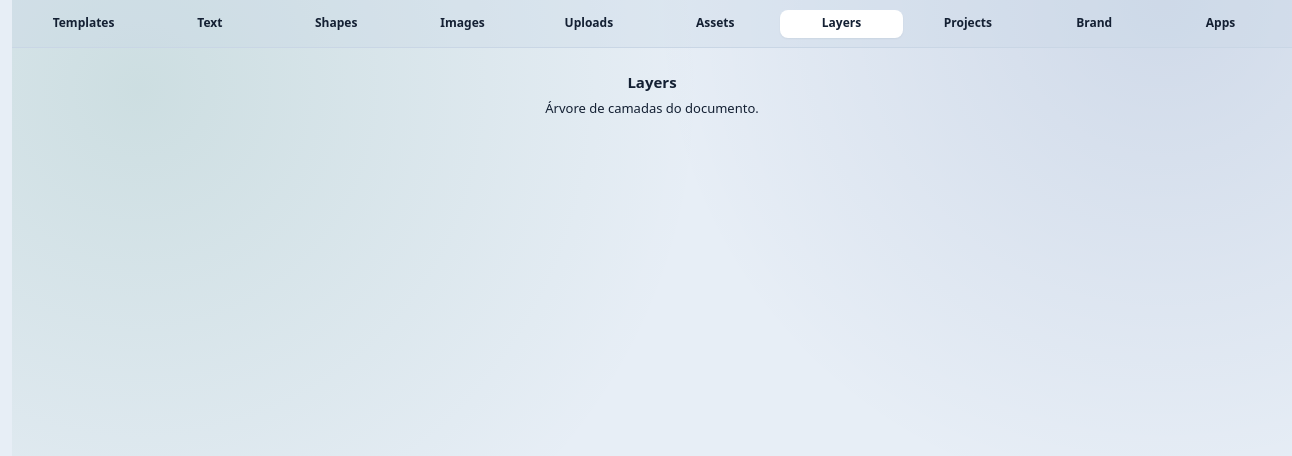
Test case: Editor UX layout foundation › renders AssetLibrary slot when assetsContent is provided
What coordinates should you click on to do the following:
click the tab with class "eko-tabs__tab" showing "Assets"
I would click on:
 (715, 24)
Its box is top-left (653, 10), bottom-right (777, 38).
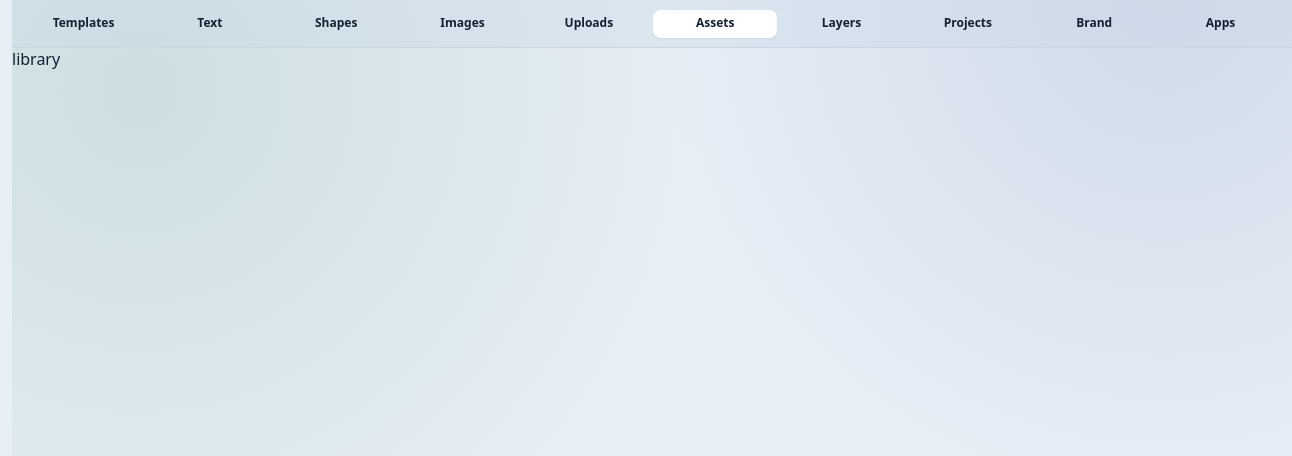
Expected: the text with test id "assets-slot" reads "library", top-left (12, 48), bottom-right (60, 70)
